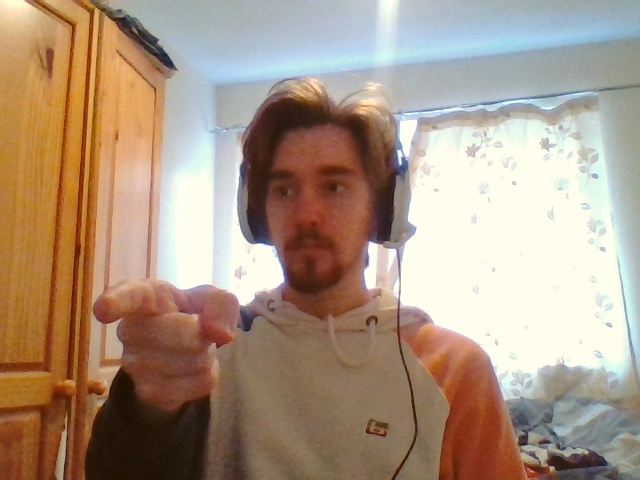you: (93, 278, 240, 400)
